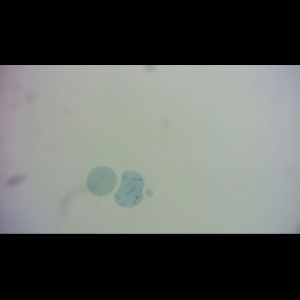aggregate reticulocyte: (113, 170, 146, 209)
erythrocyte: (85, 164, 119, 197)
